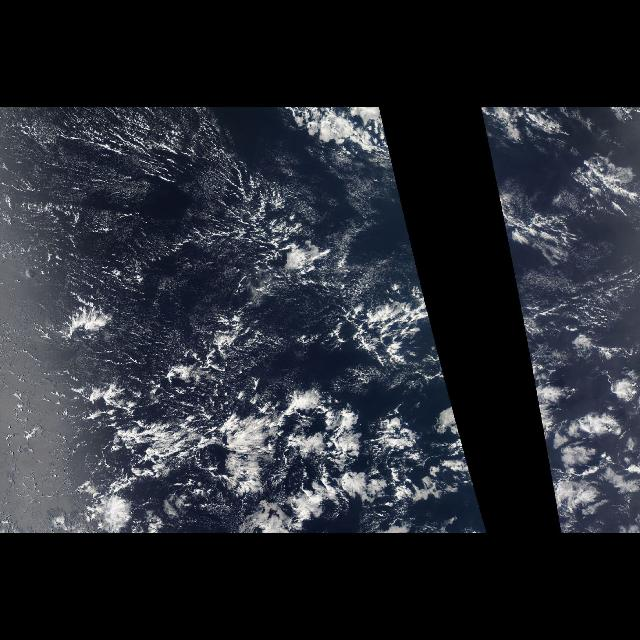Fish: (29, 344, 444, 524)
Gravel: (65, 366, 258, 534), (190, 152, 350, 308)
Sugar: (1, 107, 323, 383)
